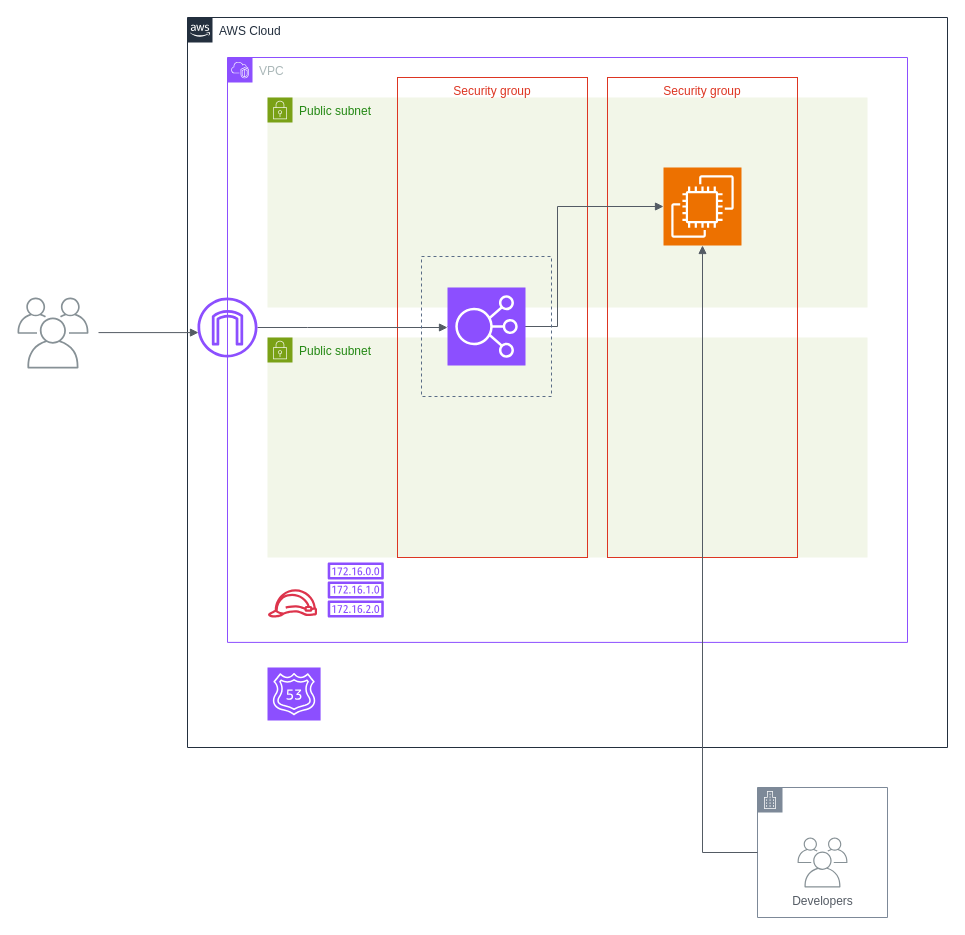
Image size: 965x935. Some labels were removed from this diagram. The box of each missing label's shape, as (x1, y1, x2, y2) in pixels:
Corporate data center: (756, 786, 888, 918)
Target group: (420, 256, 552, 396)
users: (17, 297, 88, 368)
